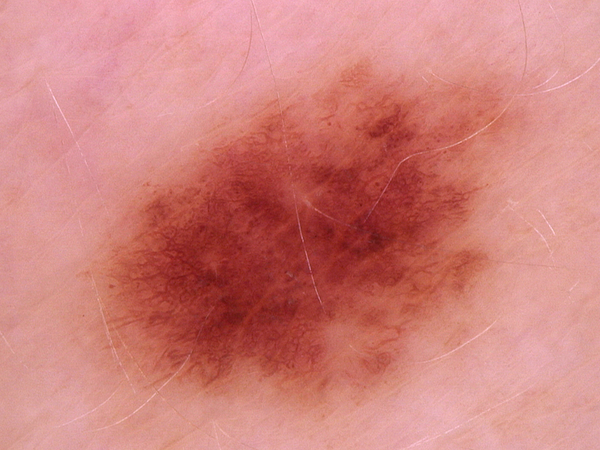Detected Lesion: (74, 60, 523, 404)
